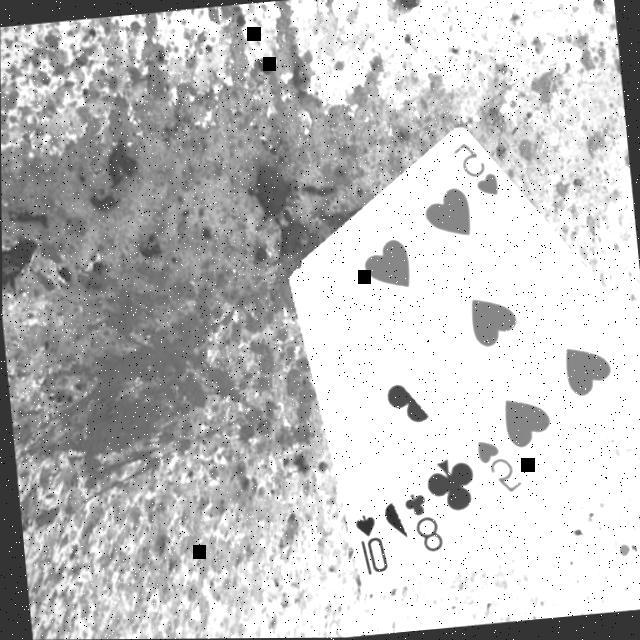10S: (349, 512, 391, 582)
5H: (448, 139, 503, 206), (472, 435, 527, 501)
8C: (398, 489, 447, 560)
